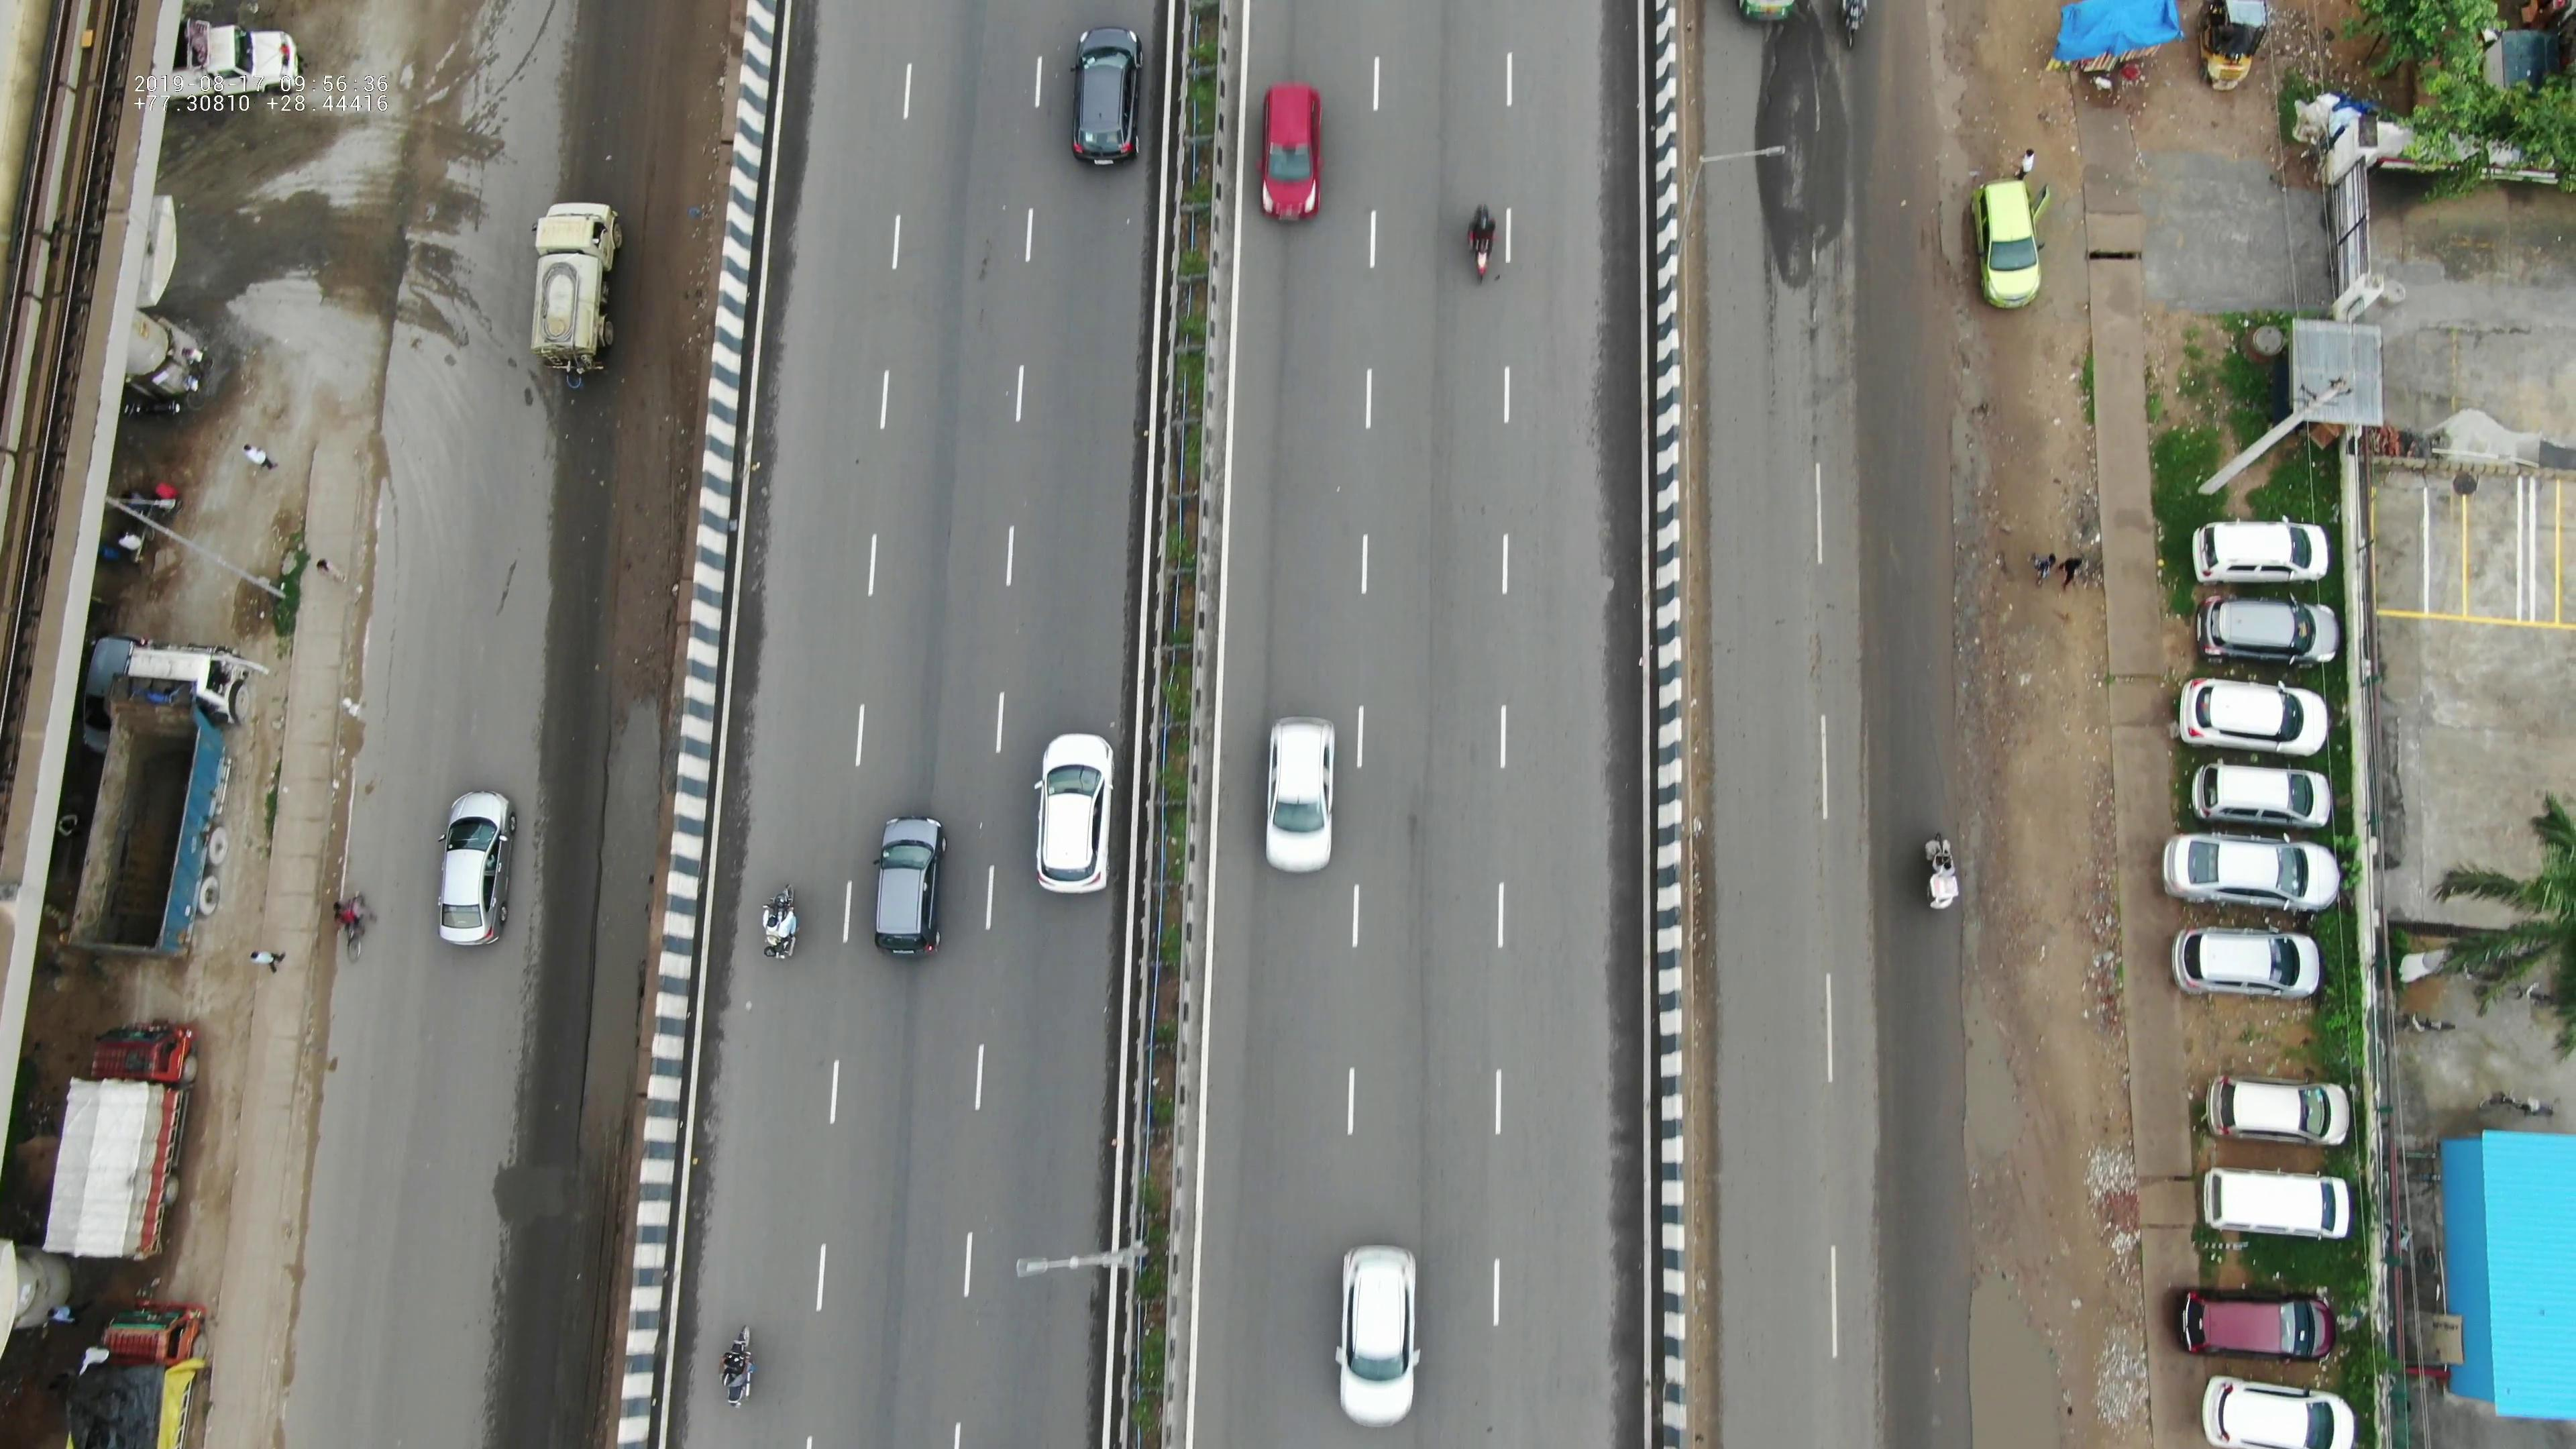Waterlogging: (568, 908, 651, 1150), (596, 679, 667, 892)
